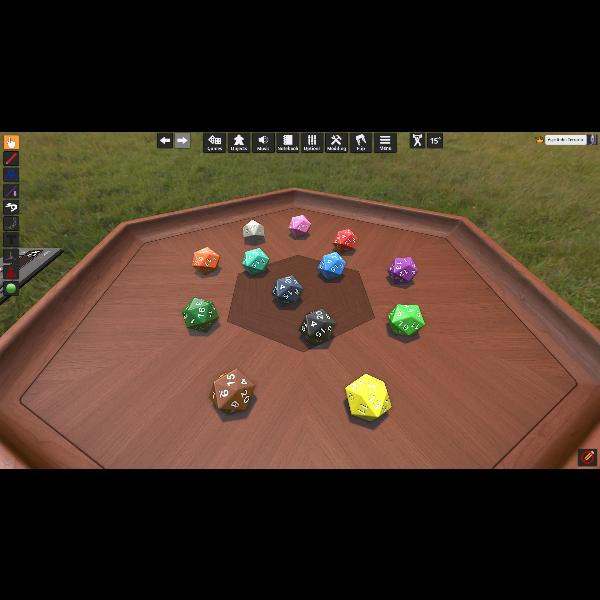d20: (208, 367, 256, 413), (345, 373, 389, 421), (182, 298, 218, 332), (299, 309, 333, 345), (388, 303, 424, 335), (272, 274, 302, 304), (388, 256, 416, 284), (317, 251, 345, 279), (192, 246, 220, 274), (241, 246, 268, 274), (332, 228, 354, 252), (243, 219, 265, 242), (288, 214, 310, 236)
